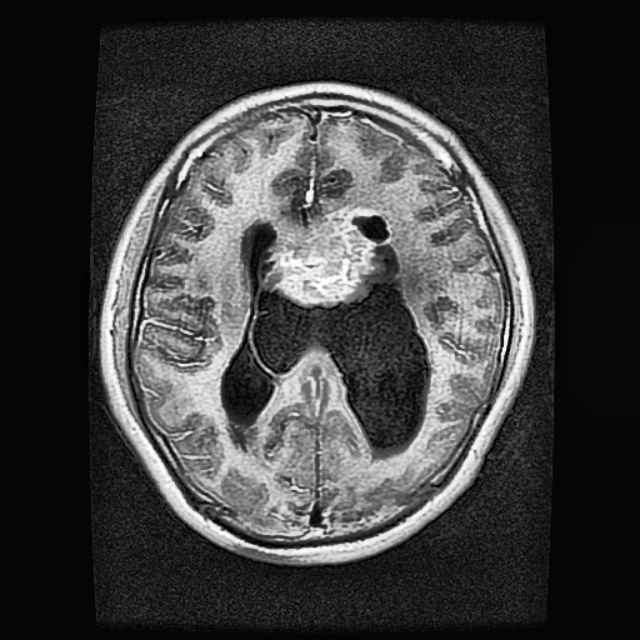Glioma: (263, 204, 399, 307)
